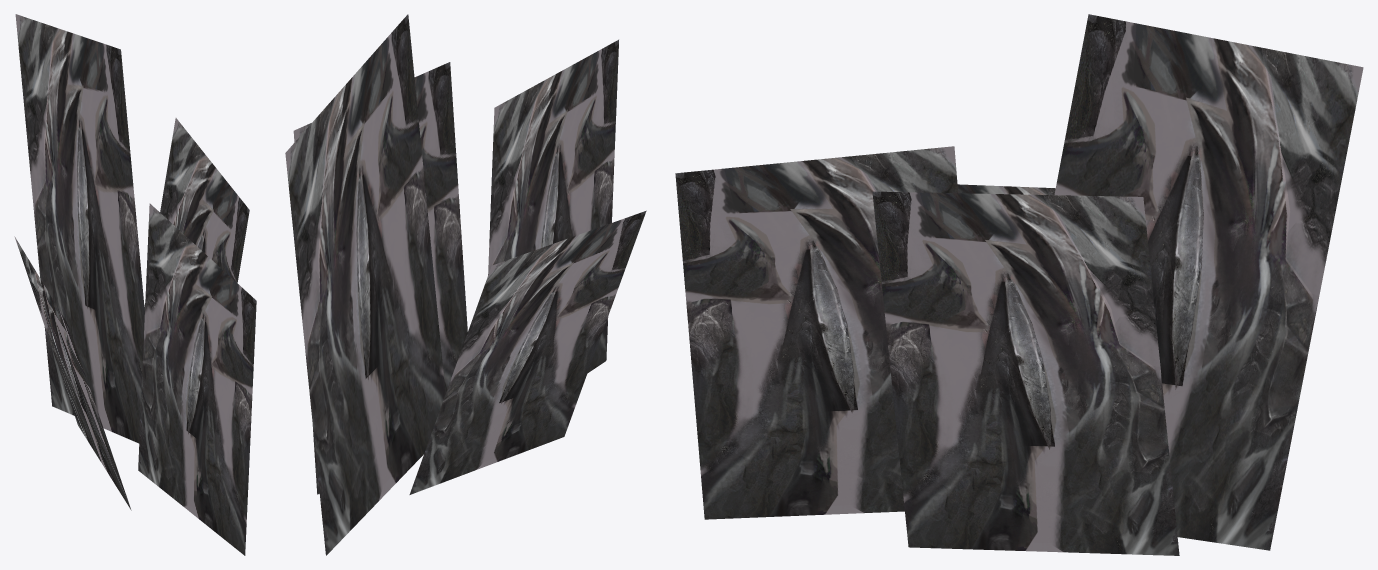
The model's file is Item_map35_yumao_03.FBX.
3 renders of one model, left to right at view 1: azimuth 30°, elevation 25°; view 2: azimuth 150°, elevation 25°; view 3: azimuth 270°, elevation 25°, orthographic. The views are drawn at different scales.
Parts seen in each view (by area): view 1: Item_map35_yumao_03; view 2: Item_map35_yumao_03; view 3: Item_map35_yumao_03.
Boxes of the visible parts, <box> form: Item_map35_yumao_03: <box>14,14,256,555</box>; Item_map35_yumao_03: <box>285,14,646,555</box>; Item_map35_yumao_03: <box>675,14,1363,555</box>.
Bounding box in the file's own units: 71.14 × 136 × 159.
Materials: 1 (1 with a texture image).
